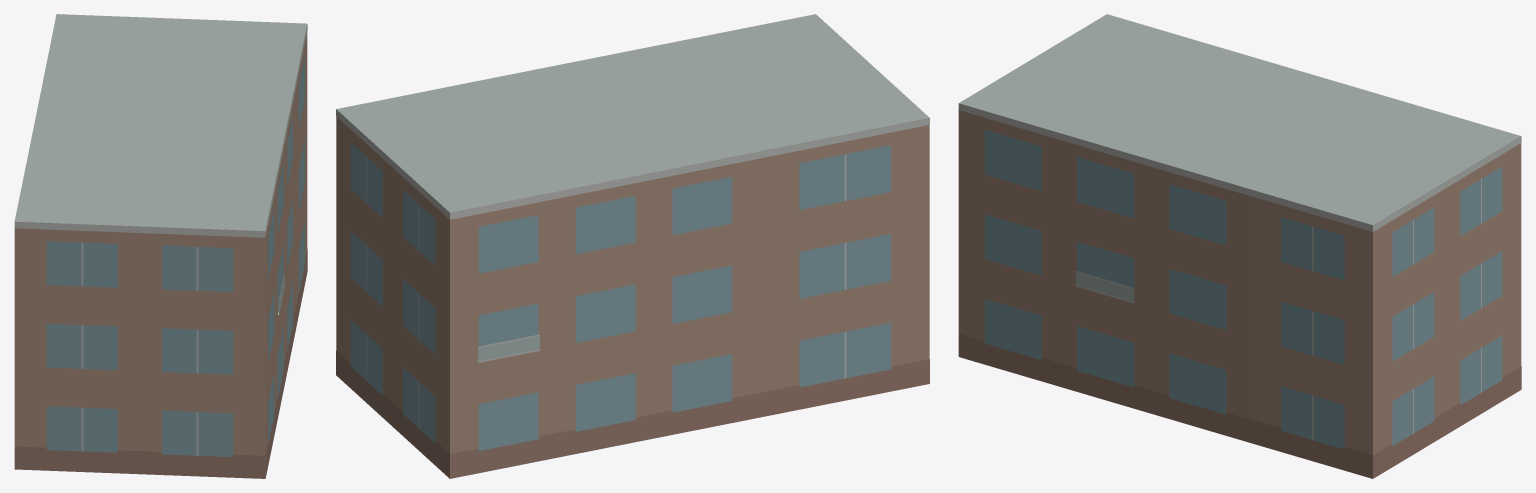
The model's file is survey-upis-32699845.glb.
3 views of the same model, side by side, from view 1: azimuth 30°, elevation 25°; view 2: azimuth 150°, elevation 25°; view 3: azimuth 270°, elevation 25° (orthographic). The views are drawn at different scales.
Parts seen in each view (by area): view 1: survey-upis-32699845.tmp; view 2: survey-upis-32699845.tmp; view 3: survey-upis-32699845.tmp.
Boxes of the visible parts, x1,y1,x2,y2 form: survey-upis-32699845.tmp: (14,14,307,478); survey-upis-32699845.tmp: (336,14,929,478); survey-upis-32699845.tmp: (958,14,1521,478).
Bounding box in the file's own units: 16.35 × 9.15 × 18.41.
